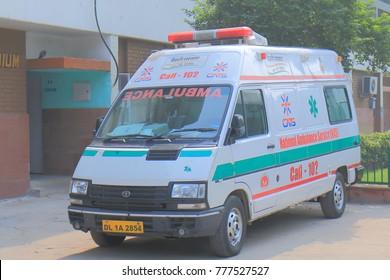ER: (67, 26, 364, 257)
